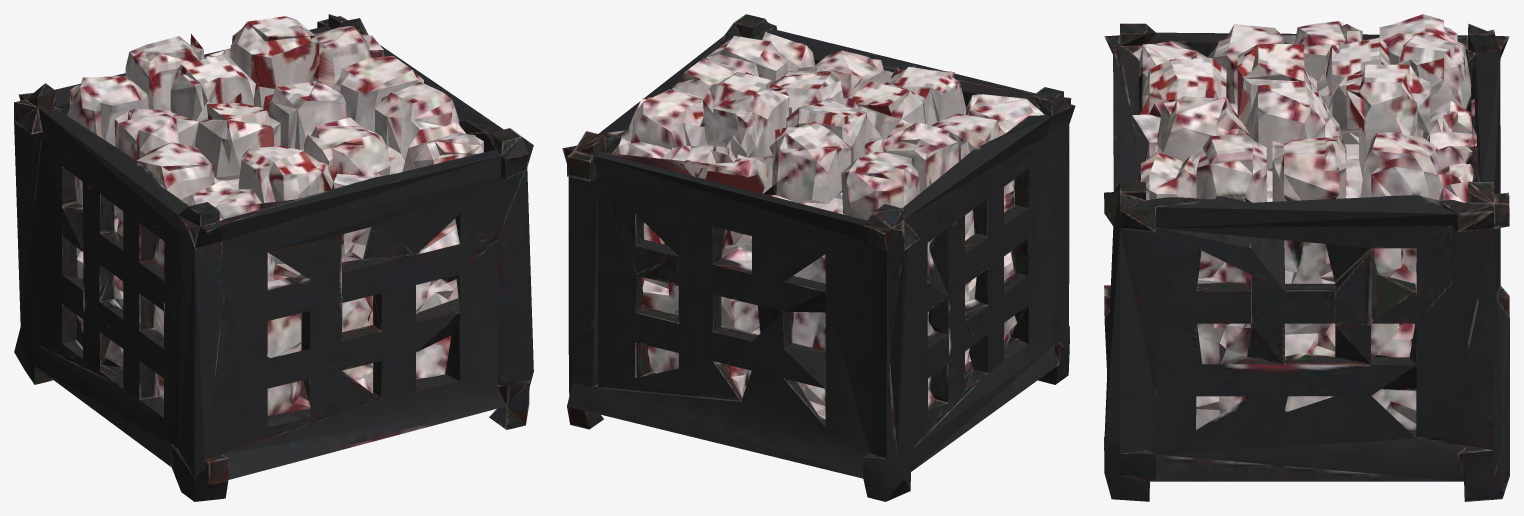
File: ball_crate.glb
The picture shows the model from 3 angles, left to right: view 1: azimuth 30°, elevation 25°; view 2: azimuth 150°, elevation 25°; view 3: azimuth 270°, elevation 25°; orthographic projection. The views are drawn at different scales.
Parts seen in each view (by area): view 1: BallCrateMesh; view 2: BallCrateMesh; view 3: BallCrateMesh.
Part boxes in pixels (x1,y1,x2,y2): BallCrateMesh: (14, 14, 533, 501); BallCrateMesh: (562, 14, 1075, 501); BallCrateMesh: (1104, 14, 1509, 501).
Size of the model in its own units: 0.5895 by 0.55 by 0.5575.
Materials: 1 (1 with a texture image).
